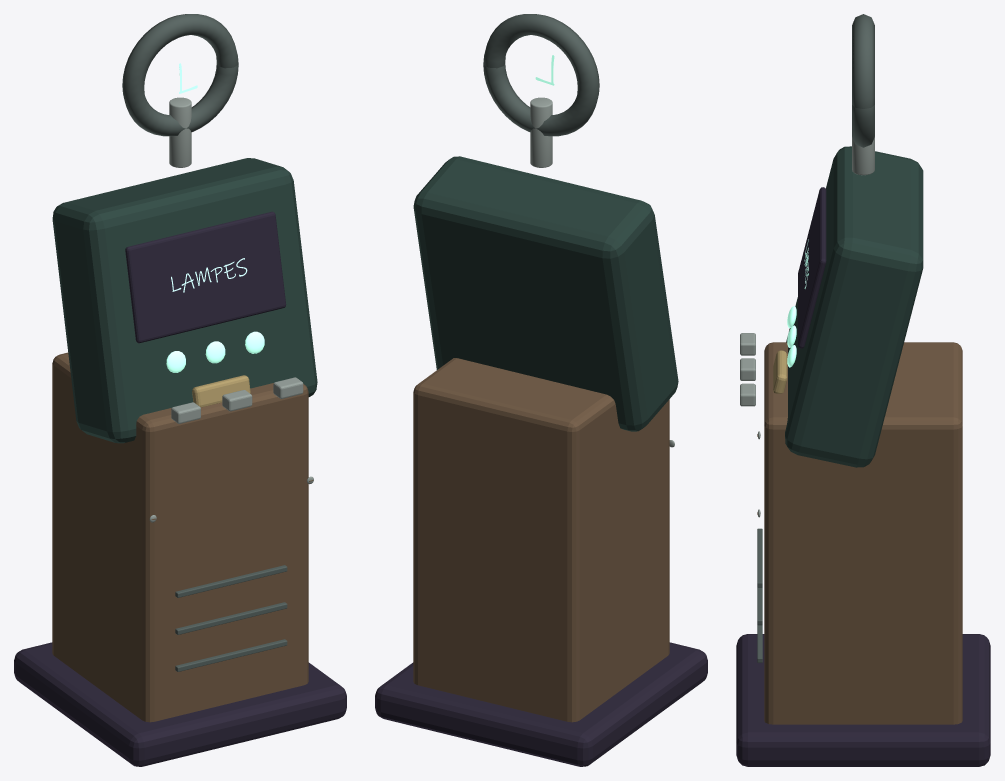
The model's file is terminal_lamp.glb.
The picture shows the model from 3 angles, left to right: view 1: azimuth 30°, elevation 25°; view 2: azimuth 150°, elevation 25°; view 3: azimuth 270°, elevation 25°; orthographic projection.
Visible parts, largest first — view 1: Walnut_pedestal, Teal_panel, Foot, Screen, Badge, Badge_stem, Button, Pedestal_vent, Pedestal_vent.001, Pedestal_vent.002; view 2: Walnut_pedestal, Teal_panel, Foot, Badge, Badge_stem; view 3: Walnut_pedestal, Teal_panel, Foot, Badge, Screen, Badge_stem, Button.
Boxes of the visible parts, bbox=[...] form: Walnut_pedestal: bbox=[52, 352, 308, 722]; Teal_panel: bbox=[52, 158, 317, 443]; Foot: bbox=[14, 642, 346, 766]; Screen: bbox=[125, 211, 286, 343]; Badge: bbox=[122, 14, 238, 136]; Badge_stem: bbox=[169, 97, 191, 167]; Button: bbox=[192, 375, 250, 407]; Pedestal_vent: bbox=[175, 639, 287, 671]; Pedestal_vent.001: bbox=[175, 602, 287, 634]; Pedestal_vent.002: bbox=[175, 565, 287, 597]; Walnut_pedestal: bbox=[413, 358, 669, 722]; Teal_panel: bbox=[413, 156, 678, 431]; Foot: bbox=[375, 642, 707, 766]; Badge: bbox=[483, 14, 599, 136]; Badge_stem: bbox=[530, 97, 552, 167]; Walnut_pedestal: bbox=[764, 342, 962, 724]; Teal_panel: bbox=[785, 146, 923, 467]; Foot: bbox=[736, 634, 990, 766]; Badge: bbox=[852, 14, 874, 147]; Screen: bbox=[798, 187, 826, 348]; Badge_stem: bbox=[852, 137, 874, 175]; Button: bbox=[773, 350, 787, 393].
Bounding box in the file's own units: 0.55 × 1.66 × 0.55.
